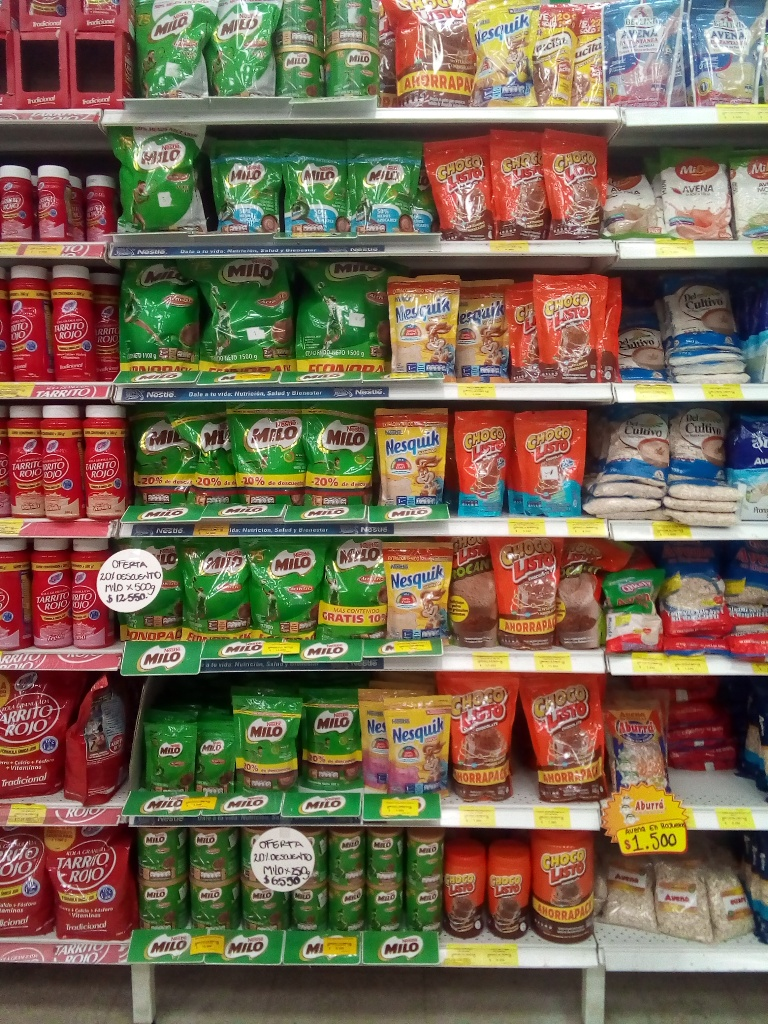COL0170102DYP50000: (556, 537, 620, 657)
COL0170103DYP20000: (424, 131, 492, 241)
COL0170103DYP40000: (492, 539, 555, 651)
COL0170103DYP44000: (438, 673, 524, 802)
COL0170103TRR00100: (531, 831, 599, 945)
COL0170103TRR30000: (445, 837, 486, 936)
COL0170104DYP20000: (453, 405, 515, 517)
COL0170203DYP10000: (143, 726, 196, 798)
COL0170203DYP25000: (232, 687, 309, 792)
COL0170203DYP50000: (111, 538, 185, 643)
COL0170203LAT20000: (289, 826, 325, 886)
COL0170203LAT40000: (141, 827, 186, 889)
COL0170205DYP20000: (213, 135, 283, 234)
COL0170205DYP50000: (212, 0, 278, 97)
COL0170303DYP20000: (469, 1, 540, 105)
COL0170305DYP20000: (357, 684, 390, 793)
